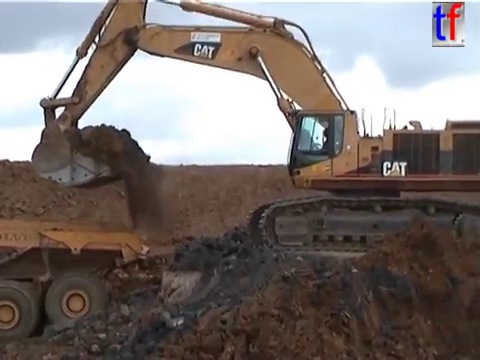excavator: (27, 1, 480, 257)
truck: (1, 216, 152, 345)
